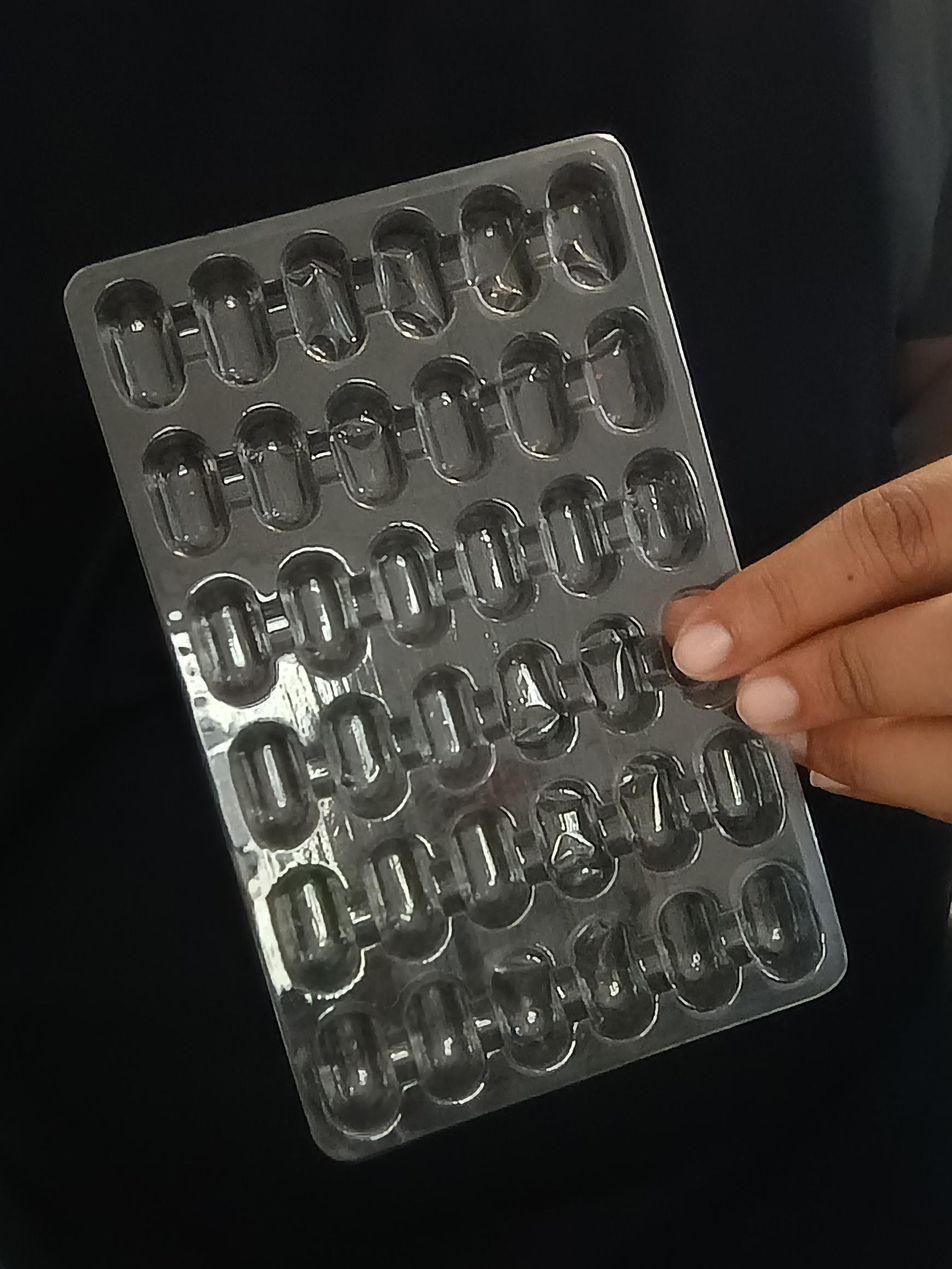Plastico: (60, 131, 846, 1154)
